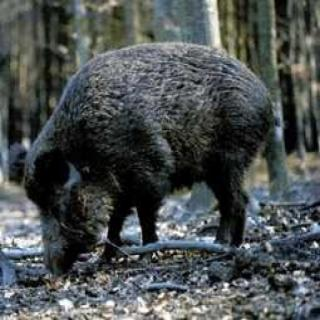Pig: (1, 41, 299, 267)
